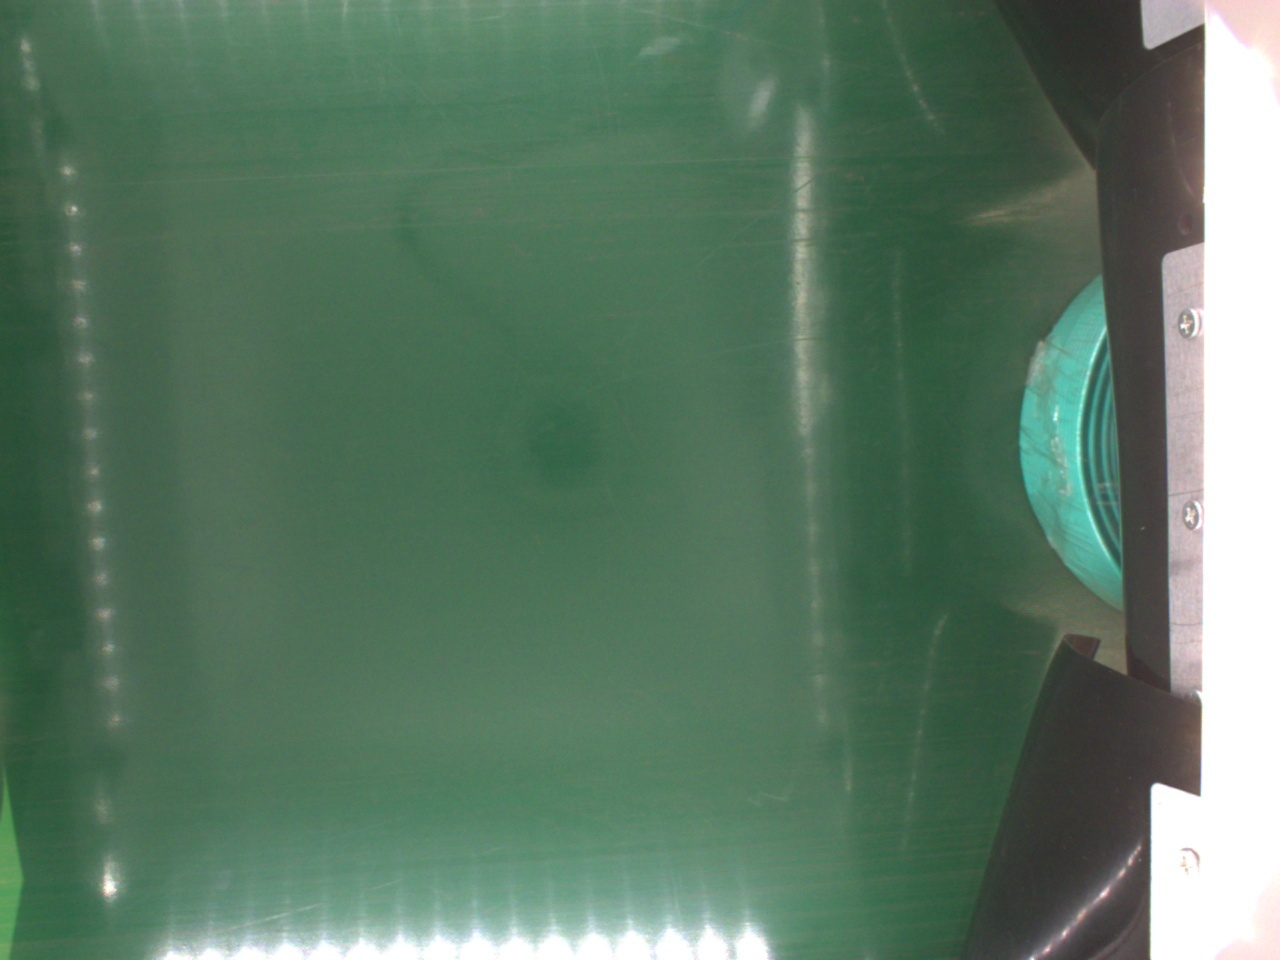green: (1018, 271, 1127, 600)
